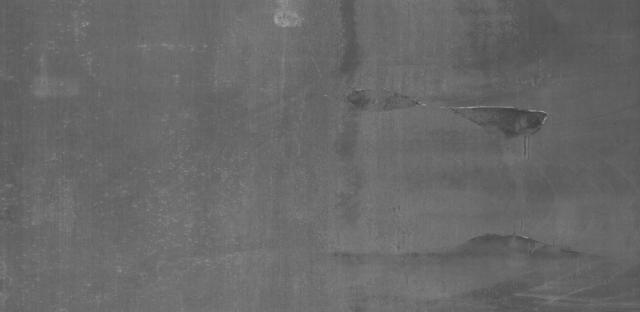rolled_pit: (450, 98, 550, 153), (328, 79, 423, 116)
